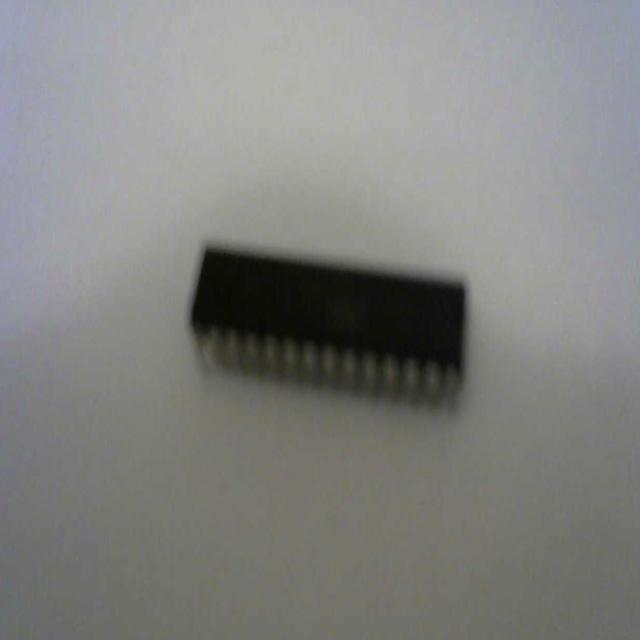atmega: (187, 238, 470, 416)
